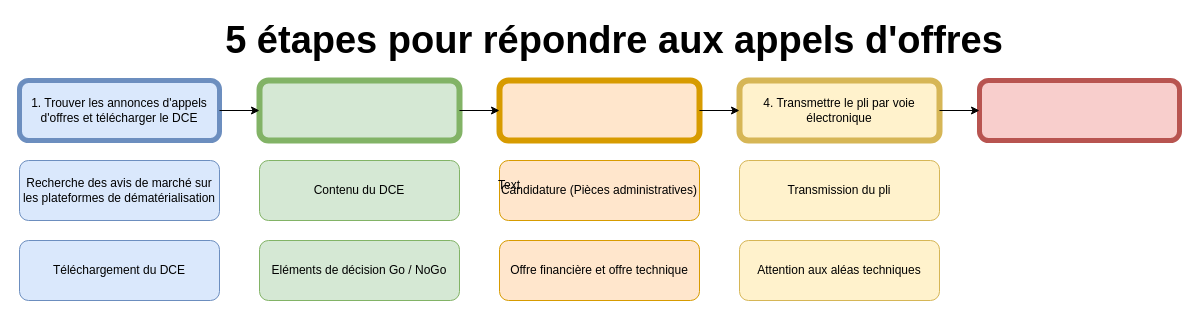
Image size: 1199x318. Some labels were removed from this diagram. The shapes that lost their labels are listed below. From the top down, each one's centre as x and y in pixels, then its label:
point (359, 110): 2. Analyser le DCE et prendre la décision Go/Nogo
point (599, 110): 3. Rédiger la réponse à l'appel d'offres
point (1079, 110): 5. Améliorer vos futures réponses
